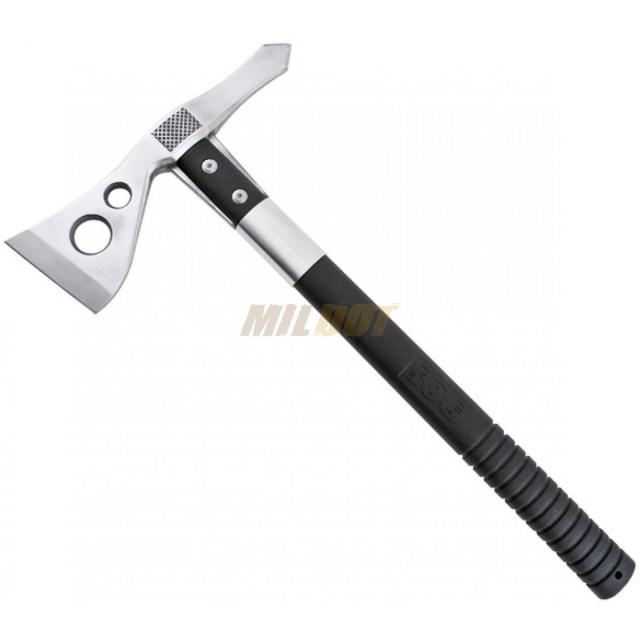Kapak: (23, 28, 592, 585)
